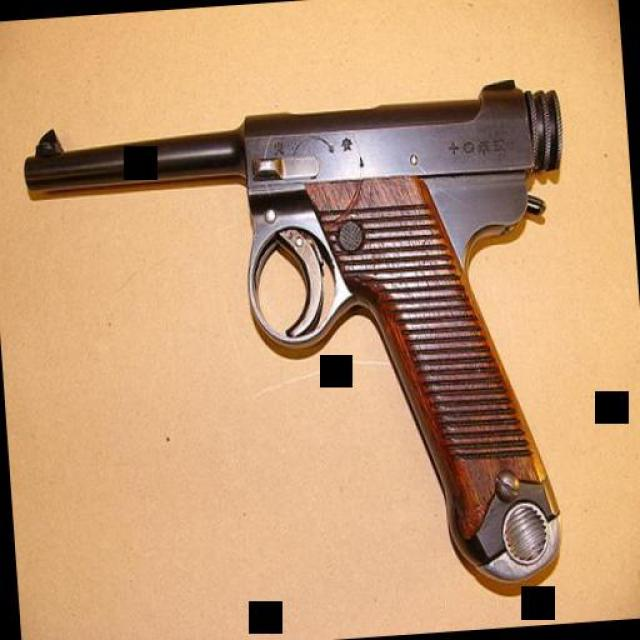gun: (16, 69, 592, 624)
